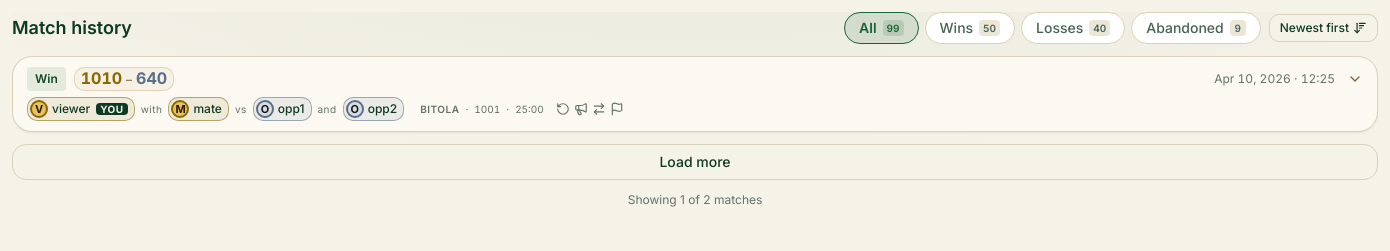
Scenario: MatchHistory › shows Load more when total > loaded and appends rows on click
expect the number of list items with test id "match-history-row" is 1: met, box [13,57,1377,131]
Click the button with test id "match-history-load-more".
click(695, 162)  # box [12,144,1378,180]
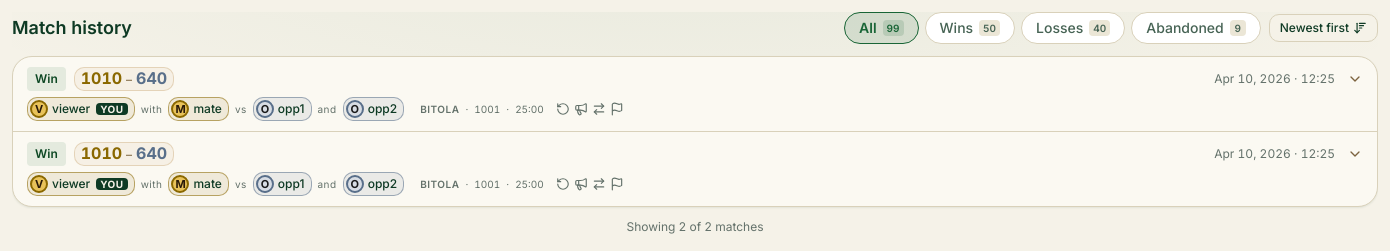
expect the number of list items with test id "match-history-row" is 2: met, box [13,57,1377,132]; [13,132,1377,206]
expect the button with test id "match-history-load-more" is gone: met
